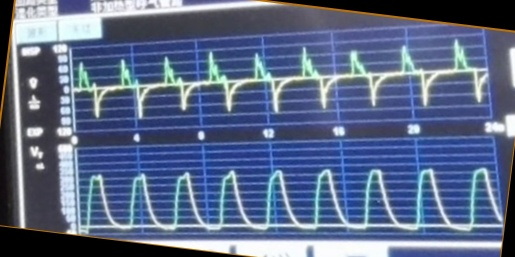Accumulation Flow: (75, 41, 489, 120)
Volume: (83, 166, 500, 233)
